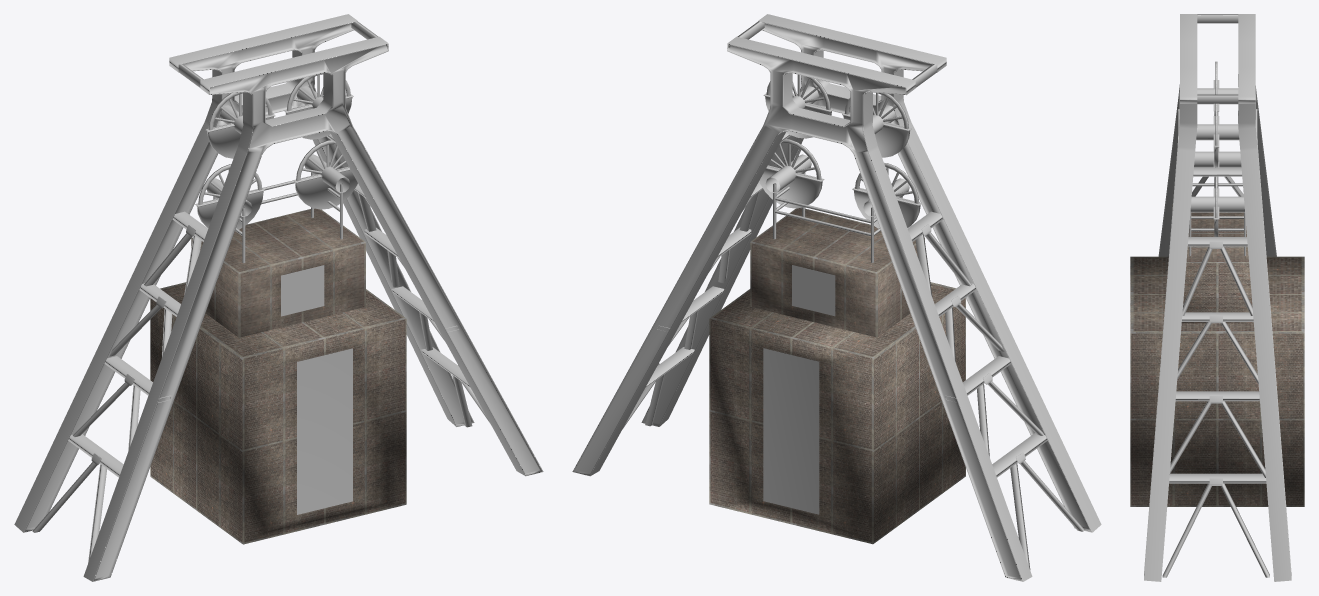
Rendered from shaft_tower01_lod.fbx.
3 views of the same model, side by side, from view 1: azimuth 30°, elevation 25°; view 2: azimuth 150°, elevation 25°; view 3: azimuth 270°, elevation 25° (orthographic). The views are drawn at different scales.
Visible parts, largest first — view 1: Mesh; view 2: Mesh; view 3: Mesh.
Part boxes in pixels (left/top/right/bottom): Mesh: left=14, top=14, right=543, bottom=581; Mesh: left=572, top=14, right=1101, bottom=581; Mesh: left=1130, top=14, right=1304, bottom=581.
Bounding box in the file's own units: 4380 × 4170 × 1559.
